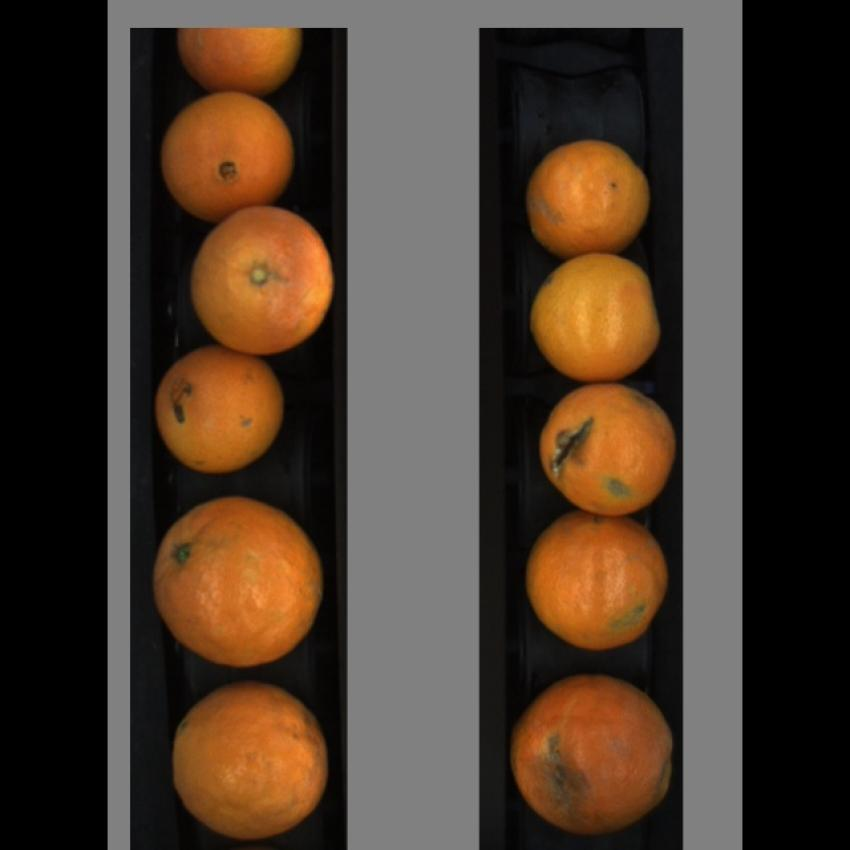Buen estado: (159, 90, 301, 225), (525, 250, 668, 384), (175, 24, 310, 102)
Mal estado: (150, 498, 327, 668), (509, 668, 678, 833), (163, 682, 333, 839), (187, 203, 335, 356), (146, 338, 296, 478), (525, 516, 670, 650), (538, 380, 678, 513), (524, 130, 654, 260)
